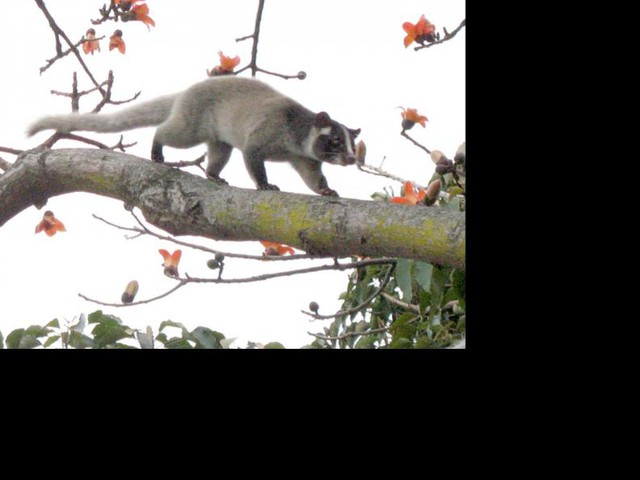civet: (23, 71, 370, 200)
